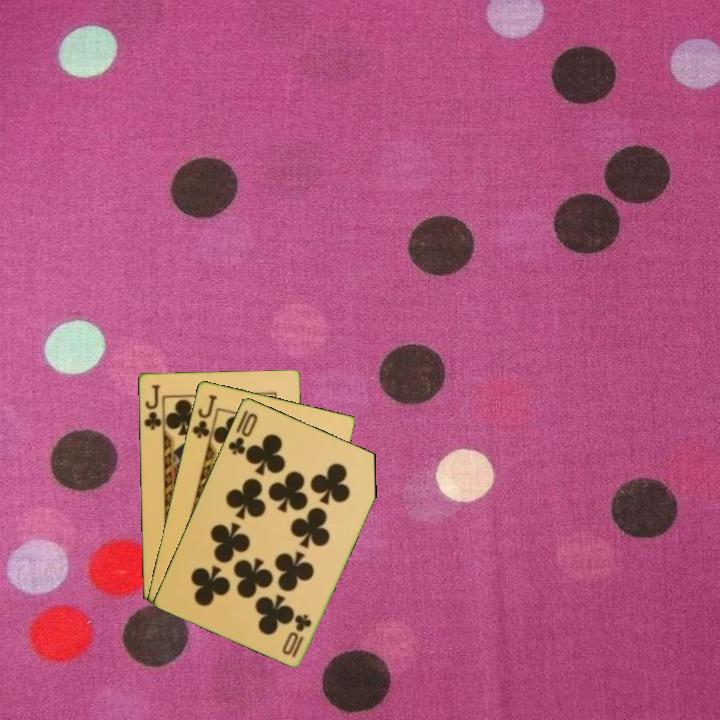10c: (224, 409, 261, 457), (288, 610, 314, 660)
Jc: (188, 391, 220, 445), (141, 381, 164, 432)
